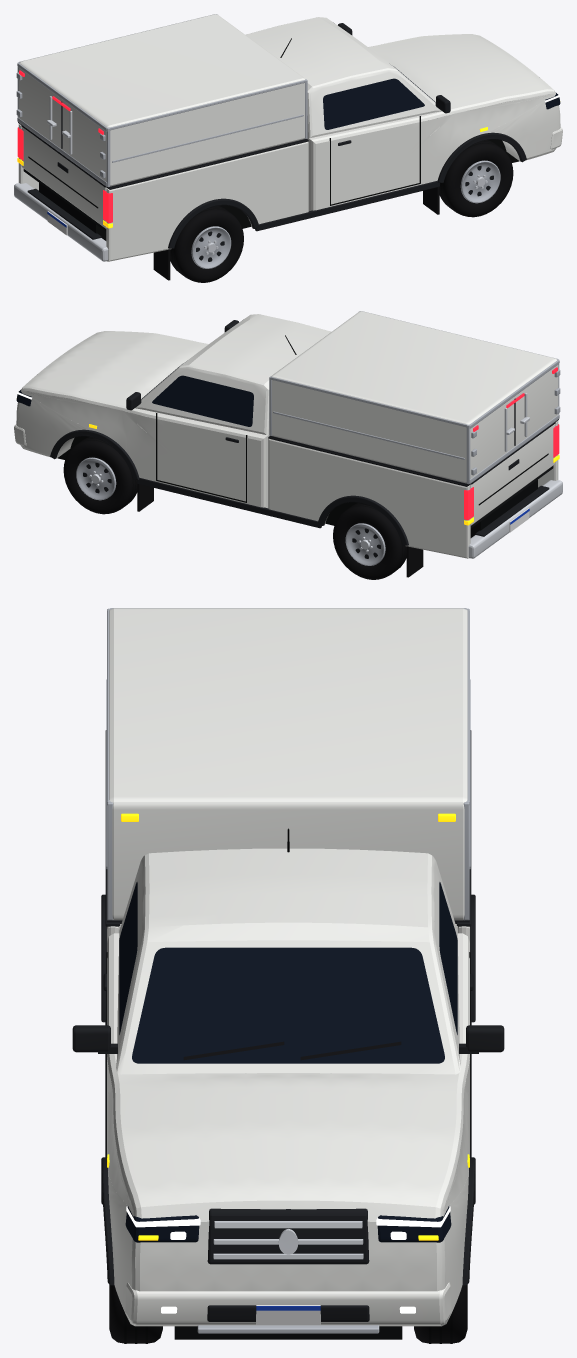
The model's file is hilux.glb.
The picture shows the model from 3 angles, top to bottom: view 1: azimuth 30°, elevation 25°; view 2: azimuth 150°, elevation 25°; view 3: azimuth 270°, elevation 25°; orthographic projection. The views are drawn at different scales.
Visible parts, largest first — view 1: pintura, bau, borracha, plastico, aco, vidro, cromado, assoalho, lanterna; view 2: pintura, bau, borracha, plastico, aco, vidro, cromado, assoalho, lanterna; view 3: pintura, bau, vidro, plastico, aco, borracha, cromado, assoalho, farol, placa.
Part boxes in pixels (<box>): pintura: <box>18,17,562,261</box>; bau: <box>18,14,305,186</box>; borracha: <box>153,140,513,282</box>; plastico: <box>18,23,526,261</box>; aco: <box>16,14,500,268</box>; vidro: <box>323,66,560,129</box>; cromado: <box>14,96,487,261</box>; assoalho: <box>28,38,519,274</box>; lanterna: <box>17,70,112,223</box>; pintura: <box>14,314,558,558</box>; bau: <box>271,311,558,483</box>; borracha: <box>63,437,423,579</box>; plastico: <box>50,320,558,558</box>; aco: <box>76,311,560,565</box>; vidro: <box>16,363,253,426</box>; cromado: <box>89,393,562,558</box>; assoalho: <box>57,335,548,571</box>; lanterna: <box>464,367,559,520</box>; pintura: <box>107,848,469,1326</box>; bau: <box>109,608,467,920</box>; vidro: <box>119,882,457,1242</box>; plastico: <box>72,730,504,1321</box>; aco: <box>106,608,470,1333</box>; borracha: <box>109,1041,467,1343</box>; cromado: <box>213,1221,363,1259</box>; assoalho: <box>106,828,470,1343</box>; farol: <box>126,1206,450,1313</box>; placa: <box>256,1305,320,1324</box>.
Size of the model in its own units: 5.38 by 2 by 2.14.
